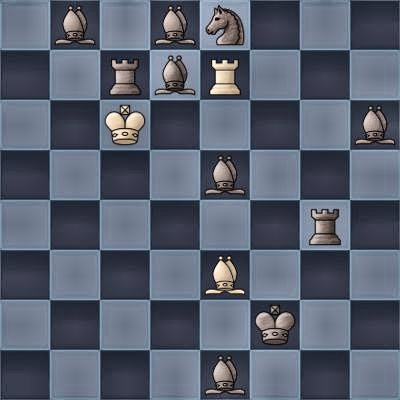black-bishop: (50, 0, 100, 50), (150, 0, 200, 50), (150, 50, 200, 100), (350, 100, 400, 150), (200, 150, 250, 200), (200, 350, 250, 400)
black-king: (250, 300, 300, 350)
black-knight: (200, 0, 250, 50)
black-rook: (100, 50, 150, 100), (300, 200, 350, 250)
white-bishop: (200, 250, 250, 300)
white-king: (100, 100, 150, 150)
white-rook: (200, 50, 250, 100)
